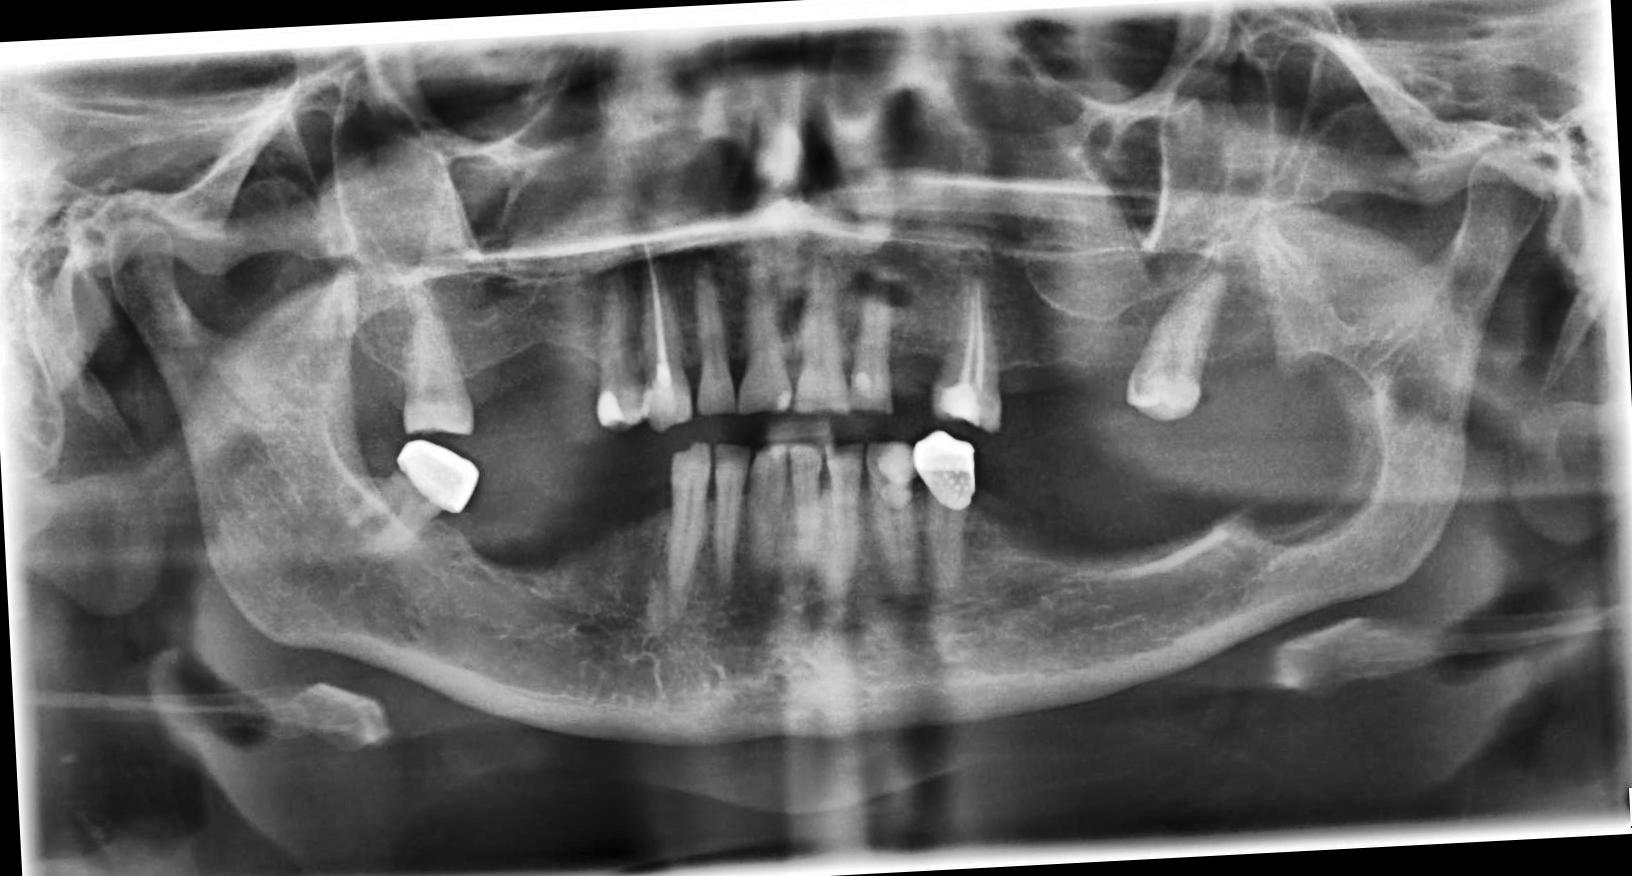okc: (1209, 345, 1393, 558)
